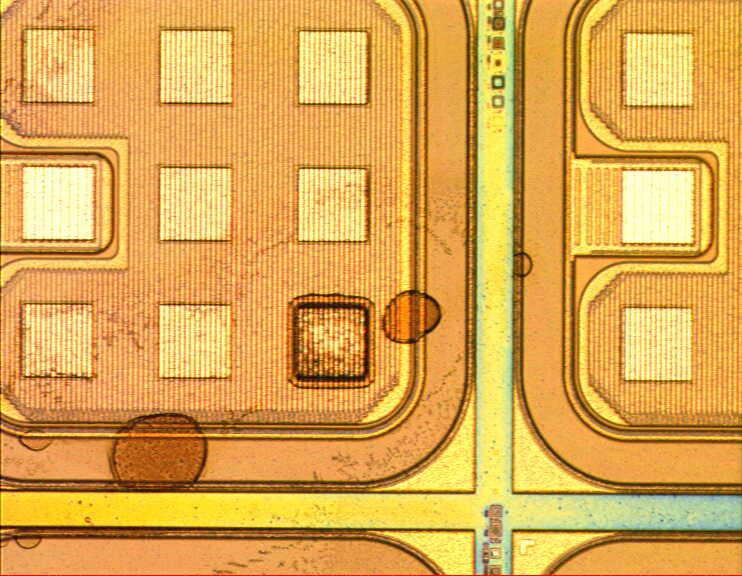SEZ BURNT: (1, 247, 540, 556)
